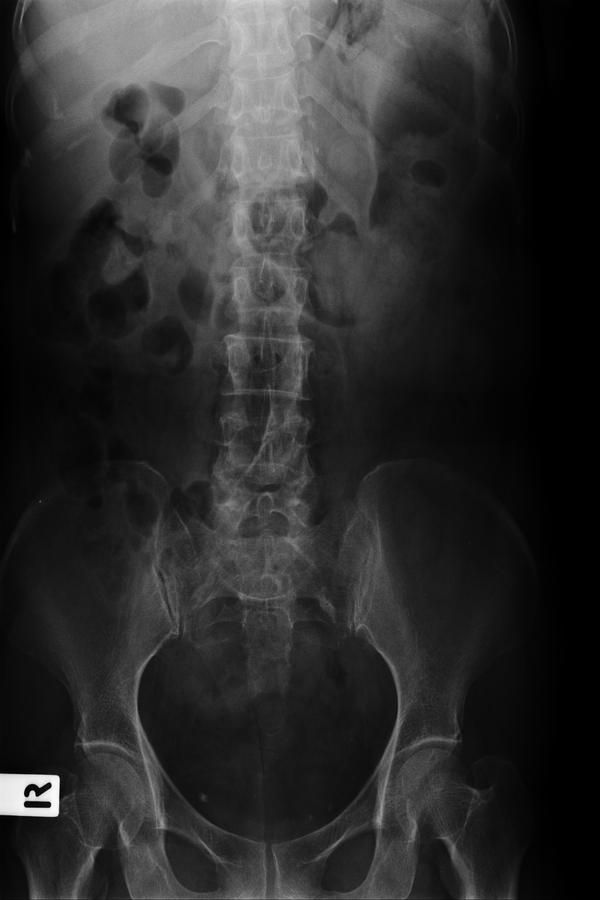lumbar scoliosis: (203, 149, 320, 523)
